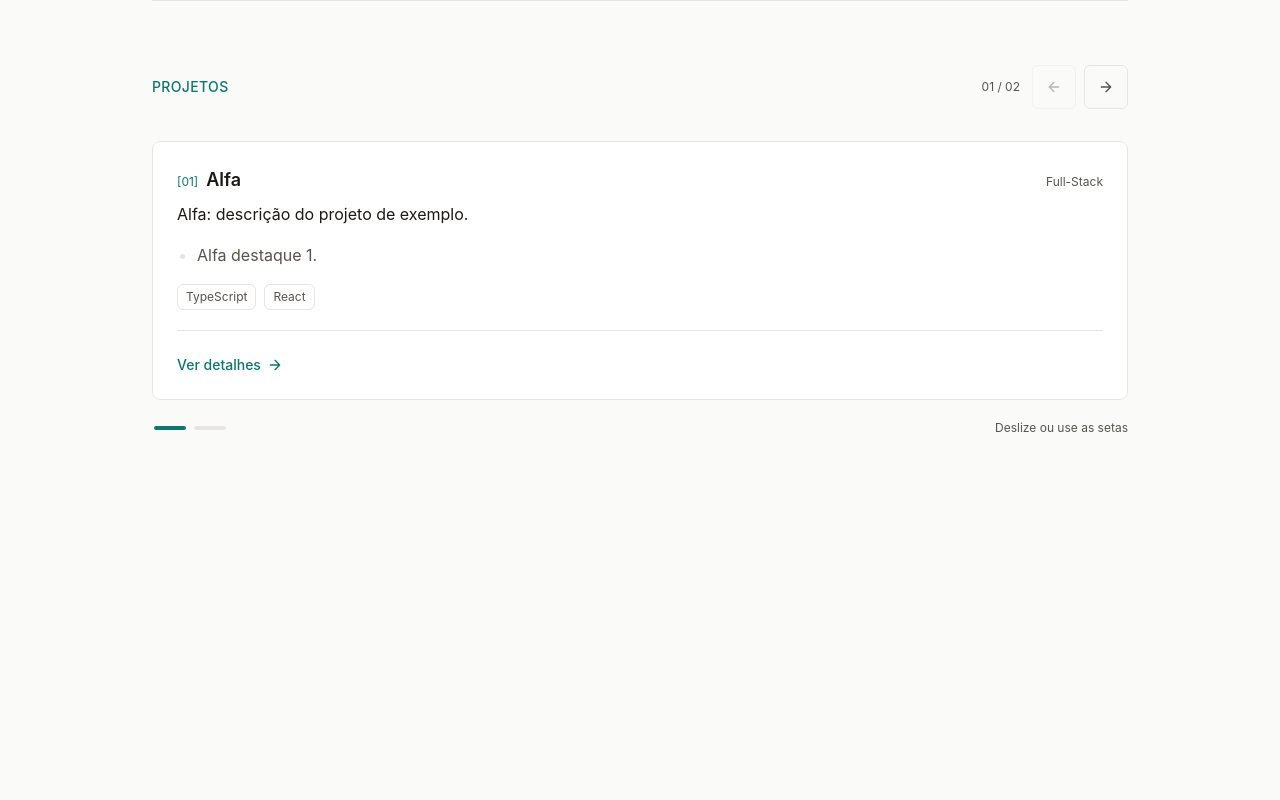
Test: project details drawer (desktop) › closes with the x and gives the focus back to the button
This screenshot has width=1280, height=800.
What coordinates should you click on to do the following:
click the button with aria-label "Ver detalhes do projeto Alfa"
I would click on:
 (230, 365)
Its box is x1=165 y1=343 x2=295 y2=387.
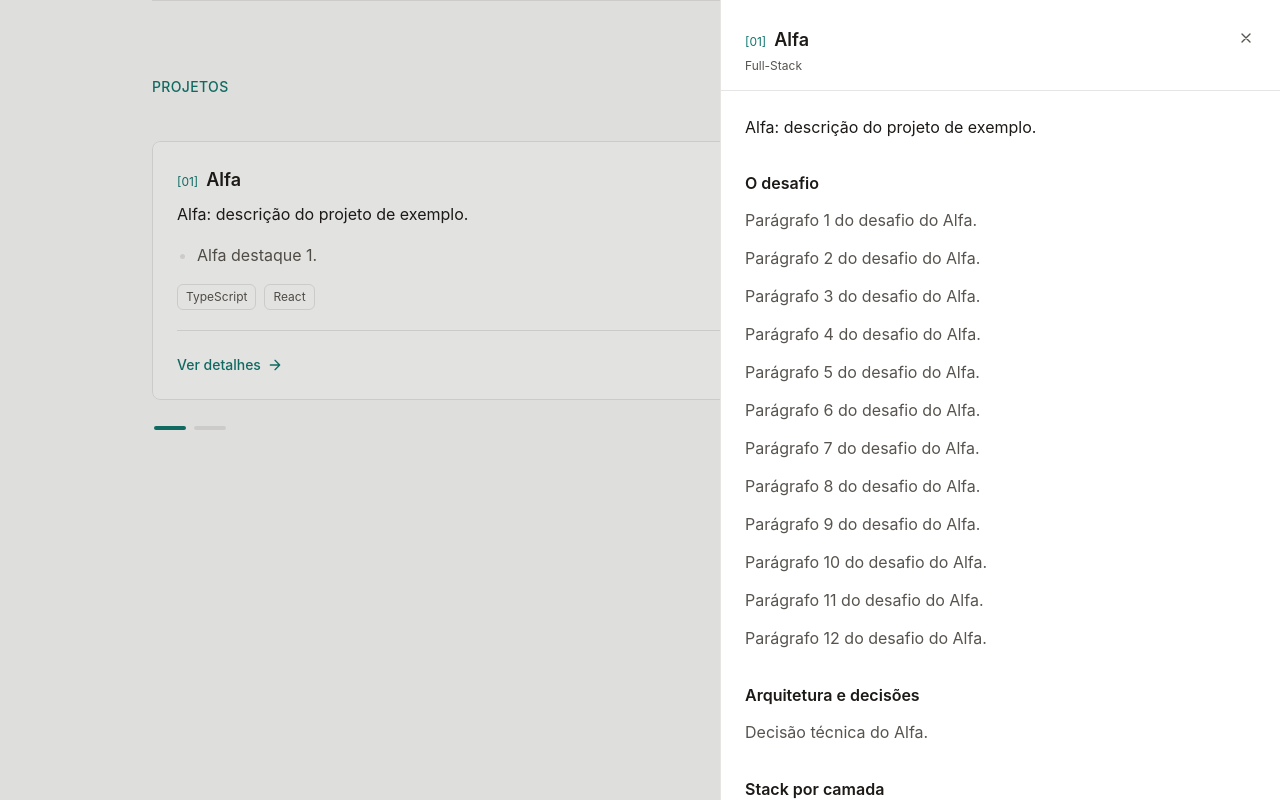
What coordinates should you click on to do the following:
click the button named "Fechar detalhes"
I would click on:
 (1246, 38)
Its box is x1=1224 y1=16 x2=1268 y2=60.
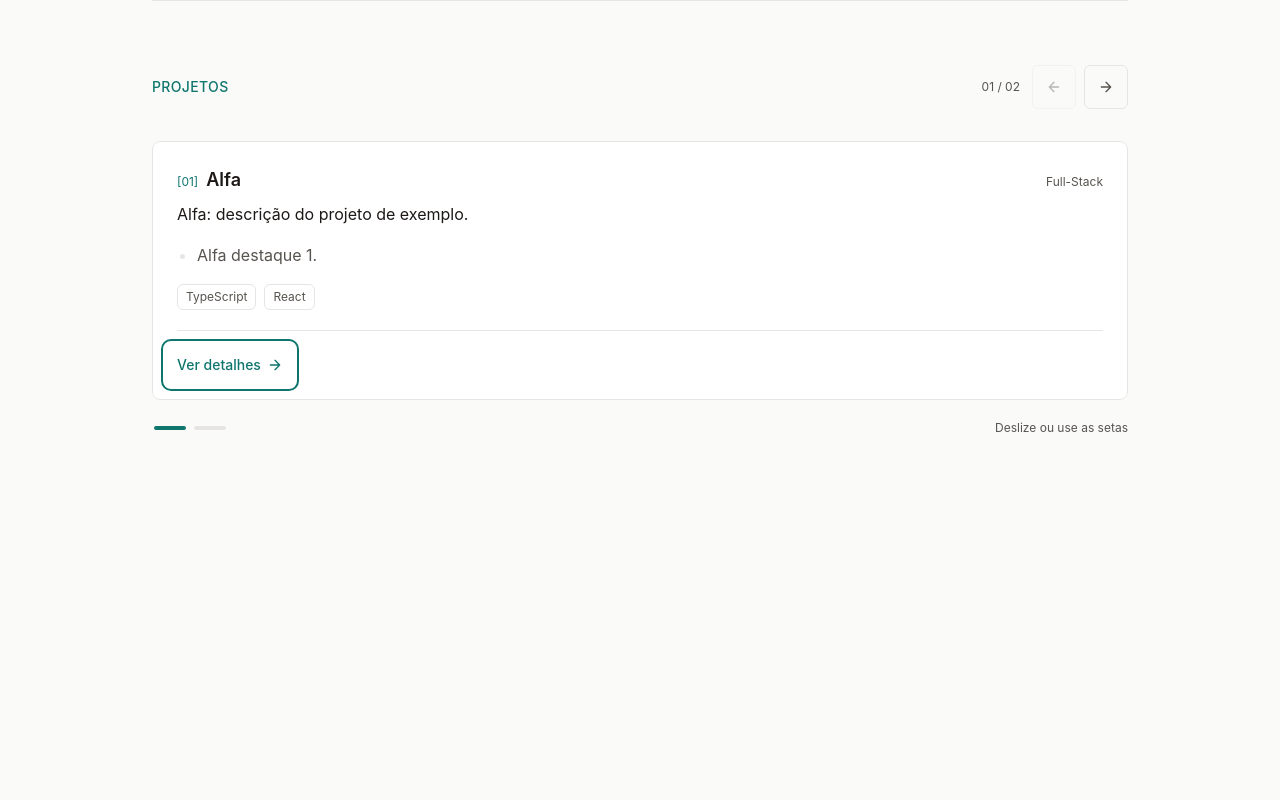
Expected: the dialog is gone
